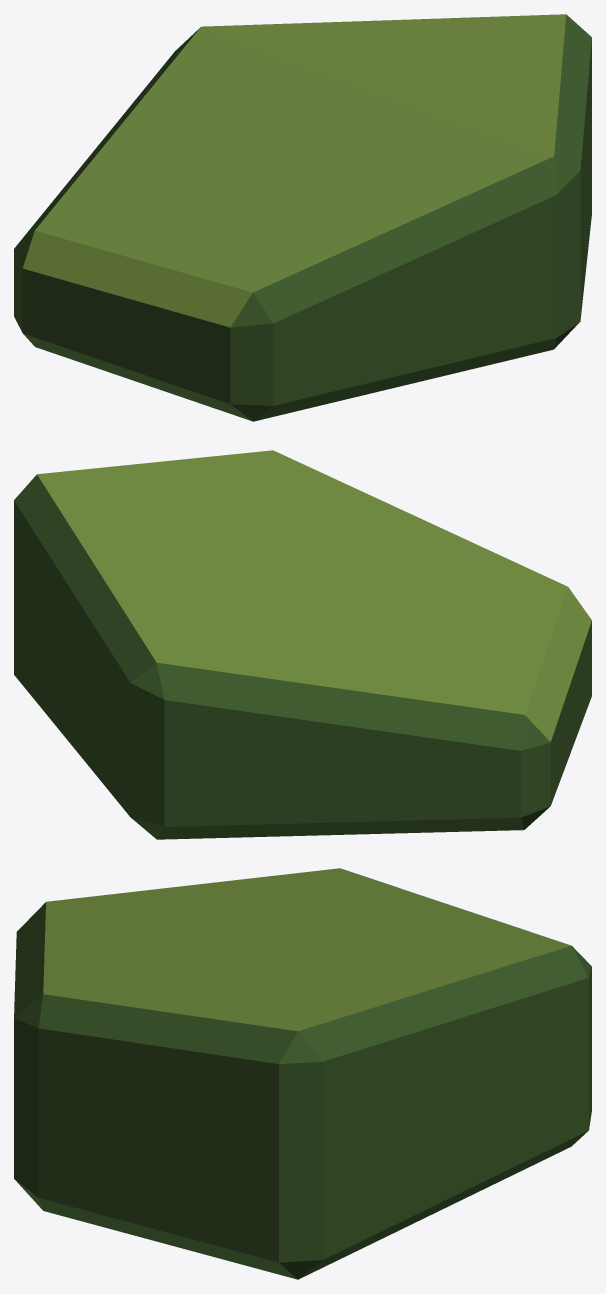
Rendered from gf_rubble_hero.glb.
3 views of the same model, one above another, from view 1: azimuth 30°, elevation 25°; view 2: azimuth 150°, elevation 25°; view 3: azimuth 270°, elevation 25° (orthographic). The views are drawn at different scales.
Visible parts, largest first — view 1: gf_rubble_hero; view 2: gf_rubble_hero; view 3: gf_rubble_hero.
Part boxes in pixels (x1=…): gf_rubble_hero: x1=14, y1=14, x2=591, y2=421; gf_rubble_hero: x1=14, y1=450, x2=591, y2=839; gf_rubble_hero: x1=14, y1=868, x2=591, y2=1279.
Size of the model in its own units: 0.2909 by 0.1122 by 0.2363.
